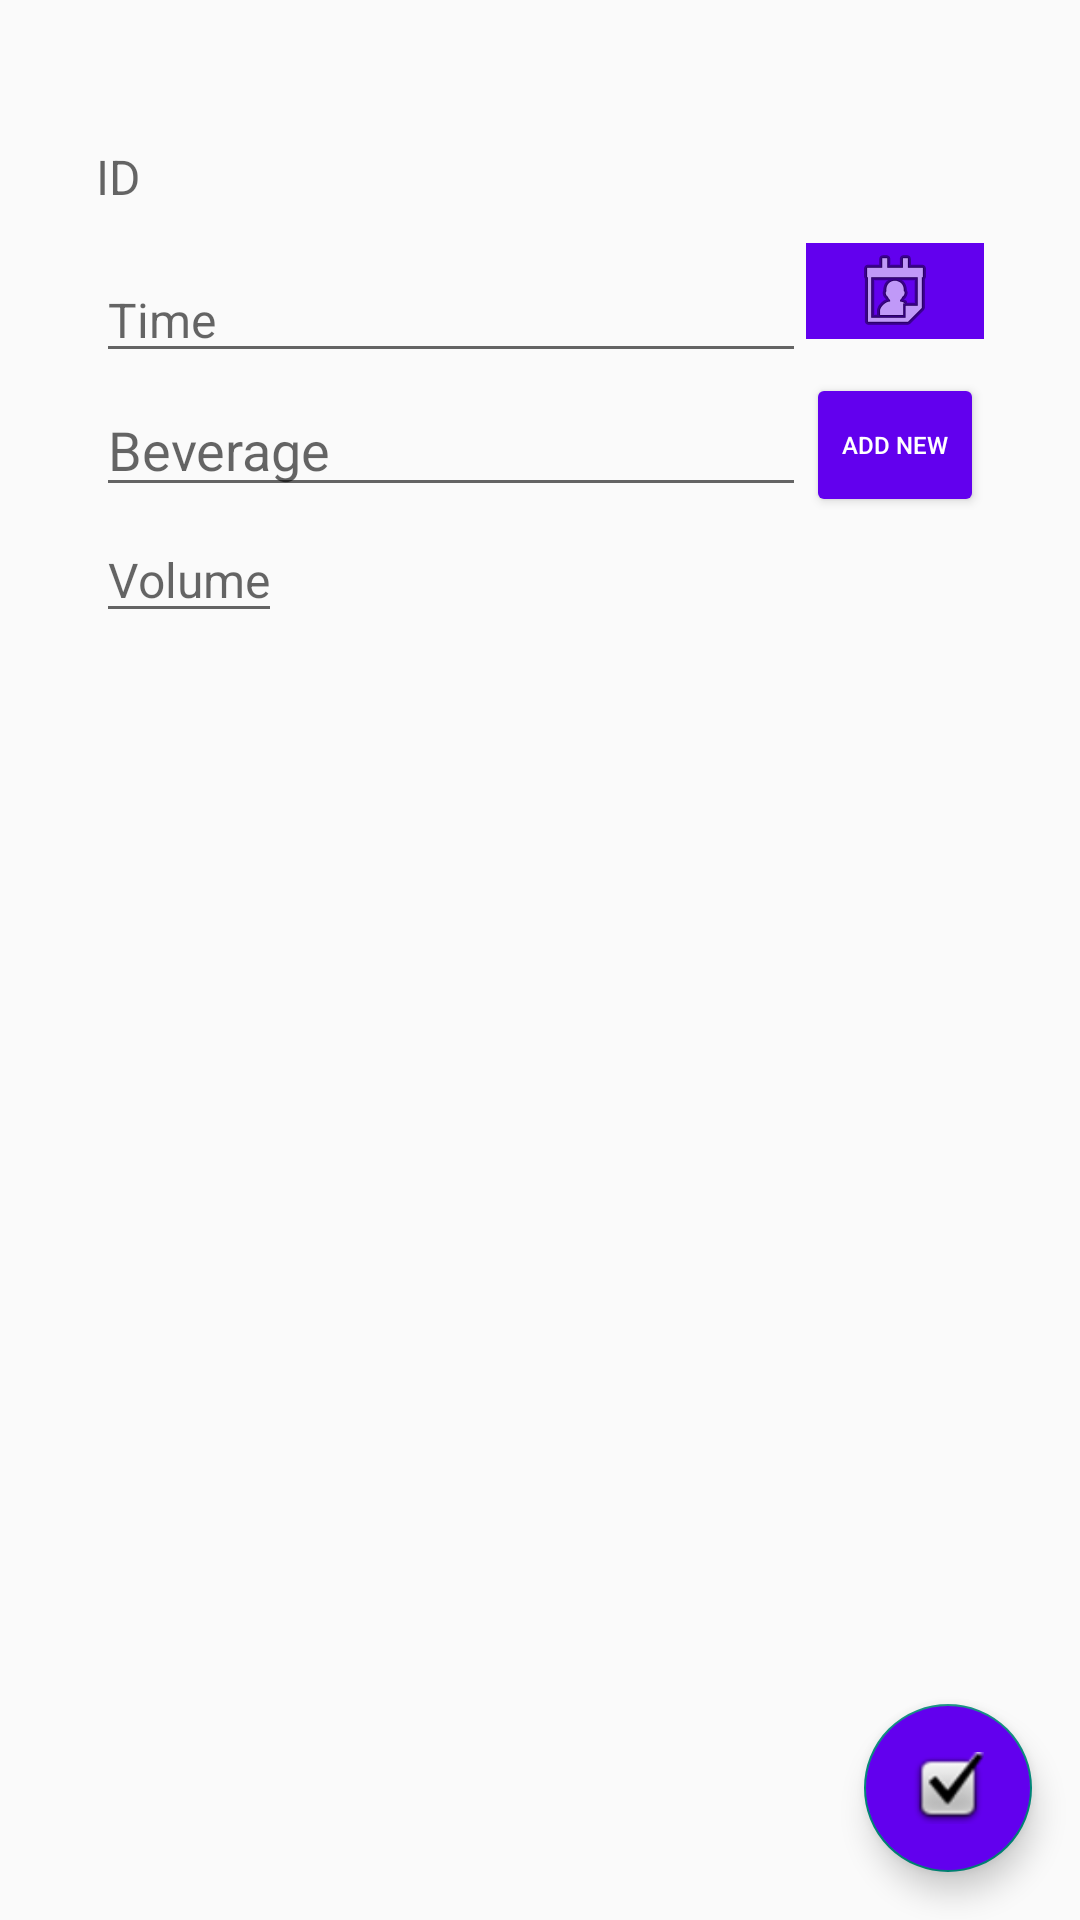

Named icons in this screenshot (1080×1920) and their bounding boxes, (x1, y1, x2, y2):
calendar: (806, 243, 984, 339)
